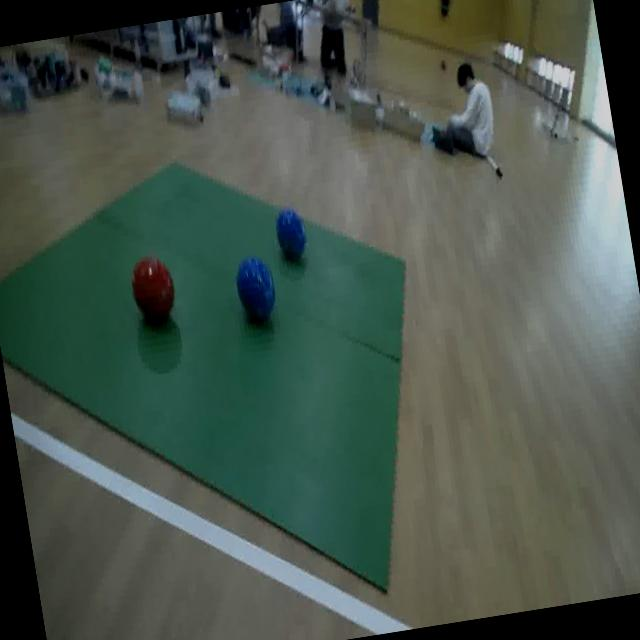blue_ball: (232, 254, 279, 322), (270, 205, 310, 261)
red_ball: (130, 252, 180, 326)
